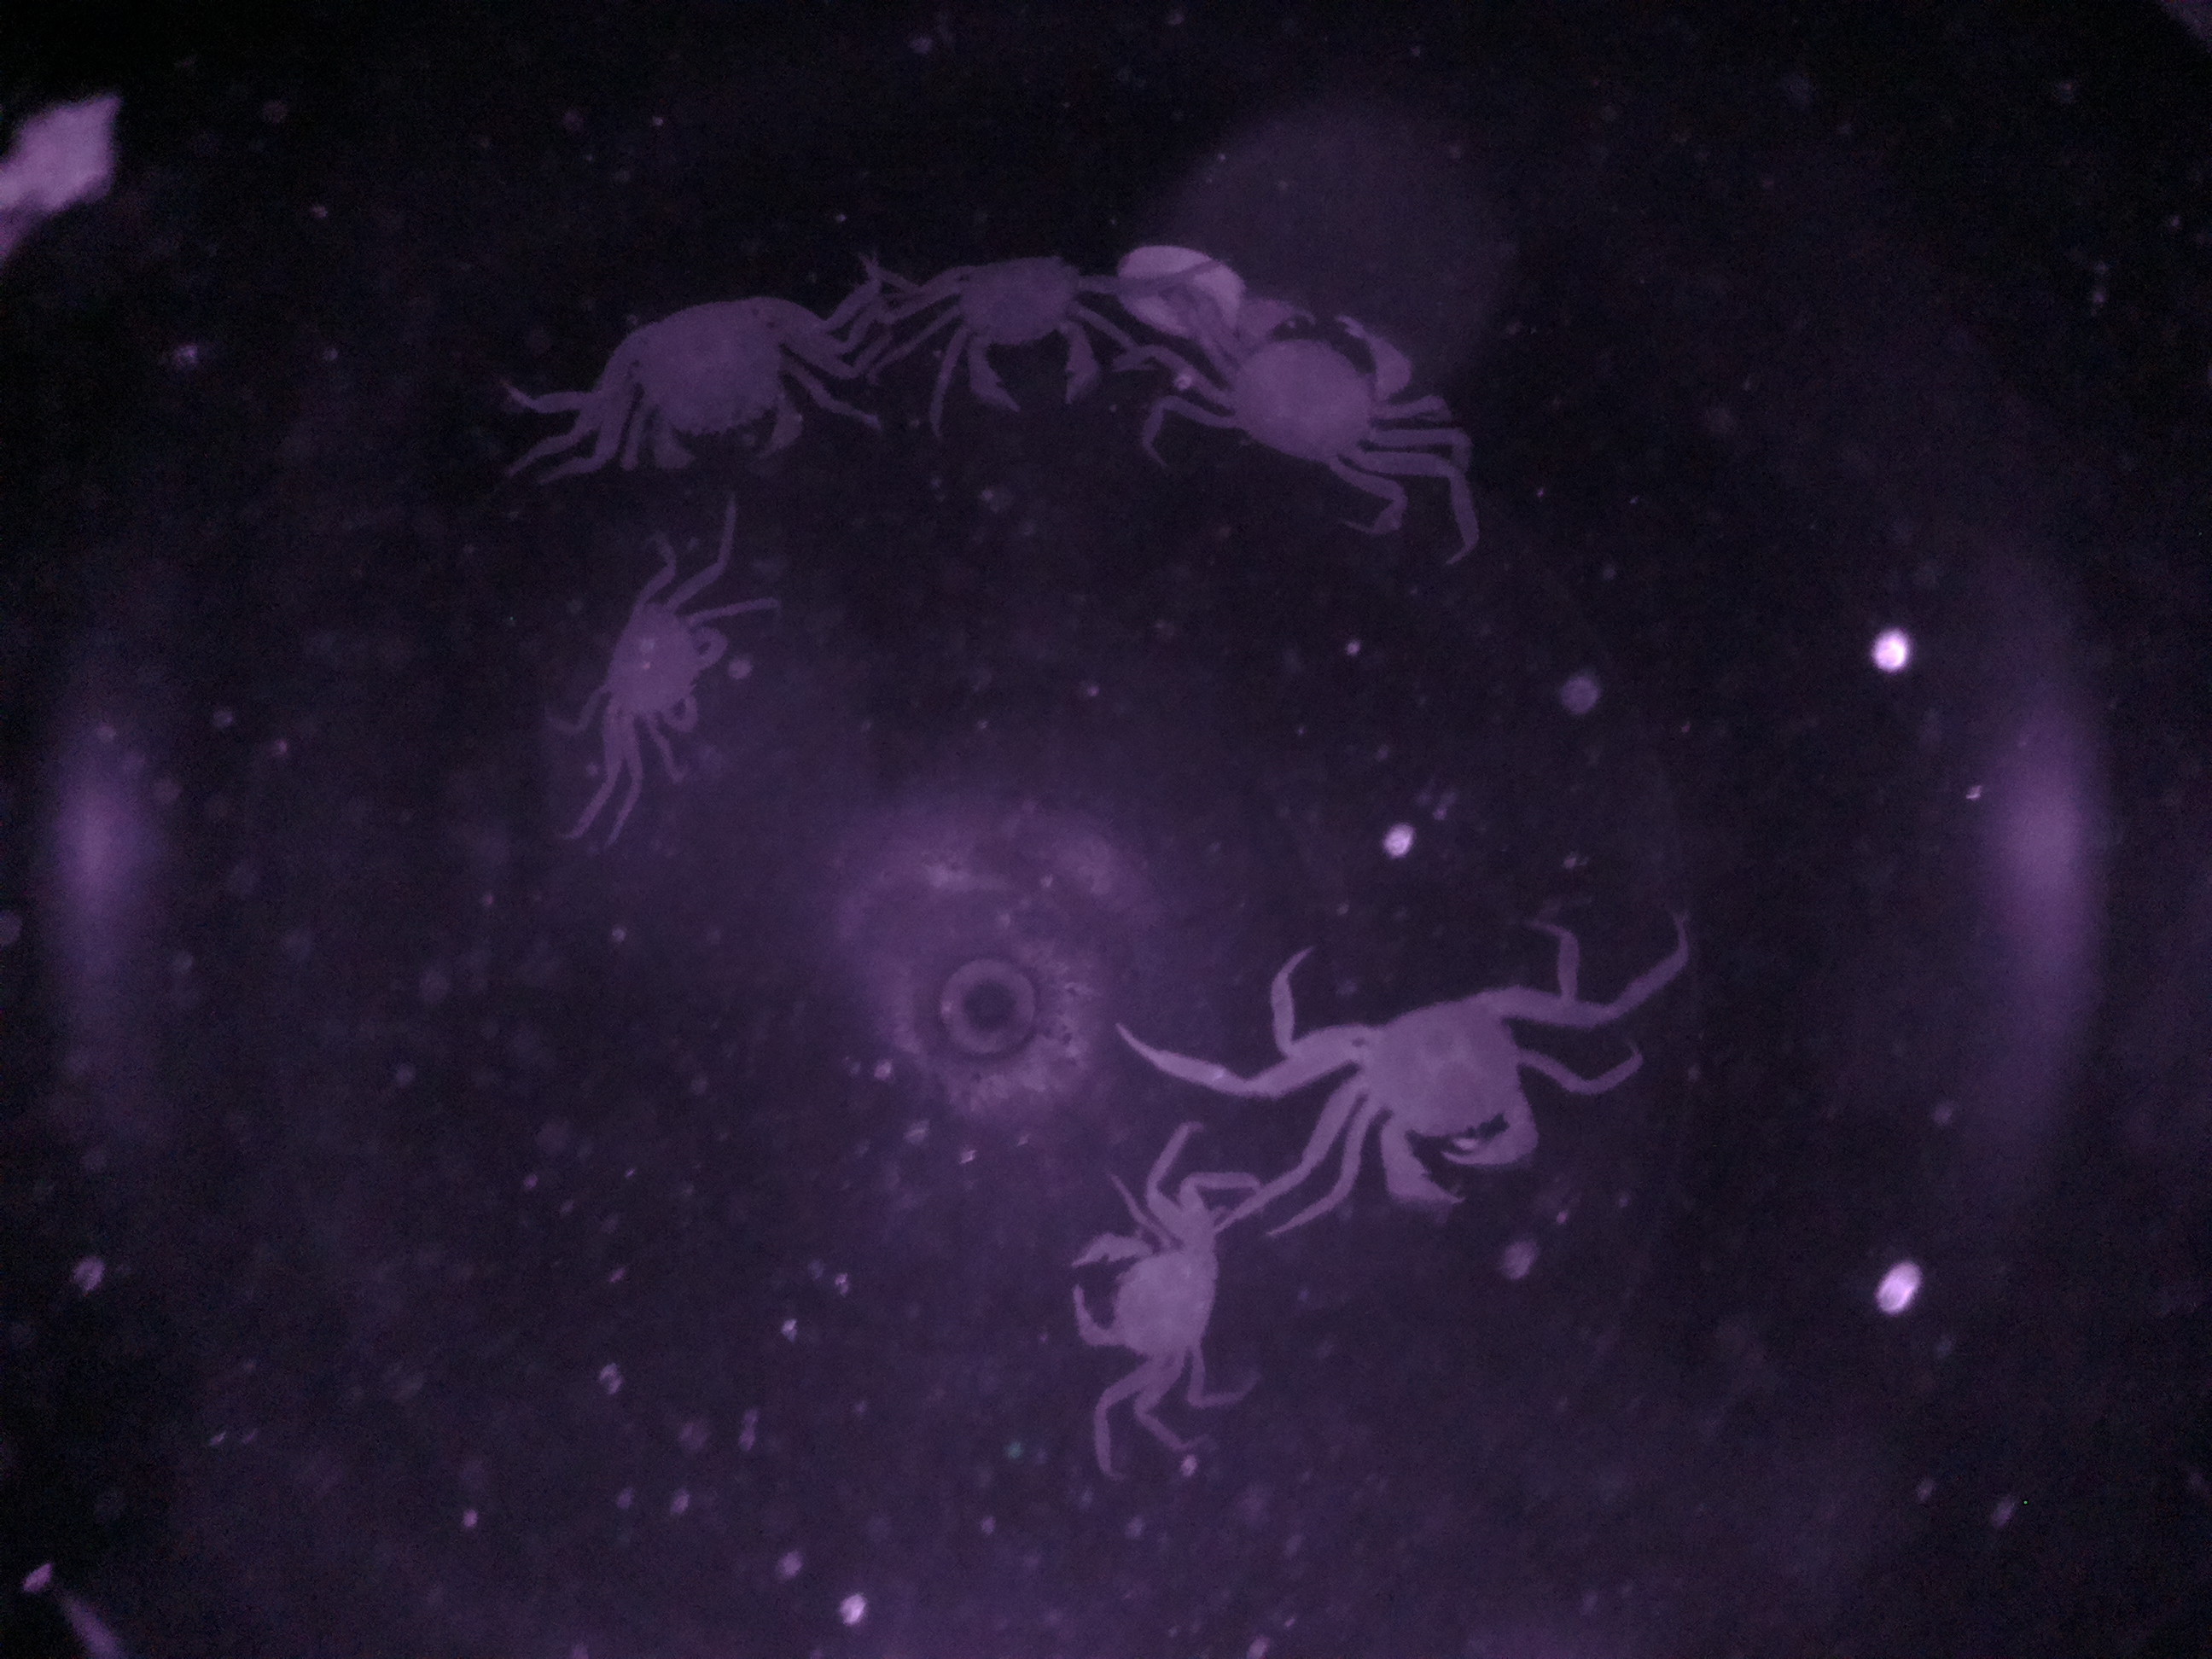Crab: (1259, 946, 1588, 1243), (559, 274, 878, 493), (1186, 270, 1446, 488), (895, 230, 1146, 441), (1038, 1161, 1237, 1410), (578, 547, 761, 765)
